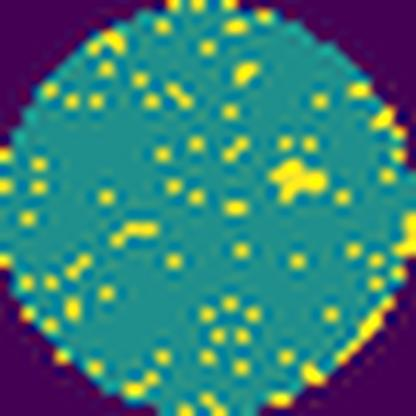Edge-Loc: (267, 154, 331, 206)
